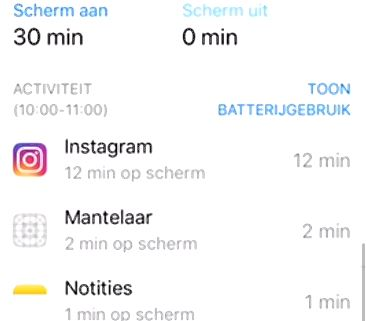activity: (4, 75, 114, 121)
app: (7, 131, 363, 188), (5, 201, 361, 258), (5, 268, 360, 321)
